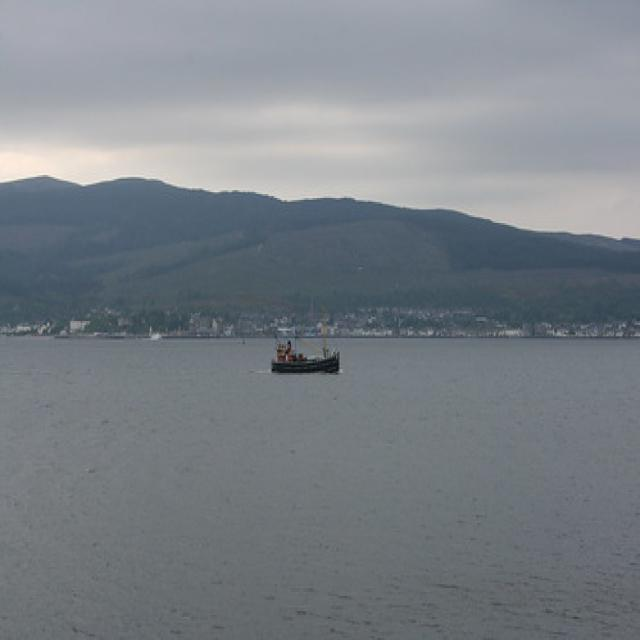fishing boat: (260, 304, 343, 376)
